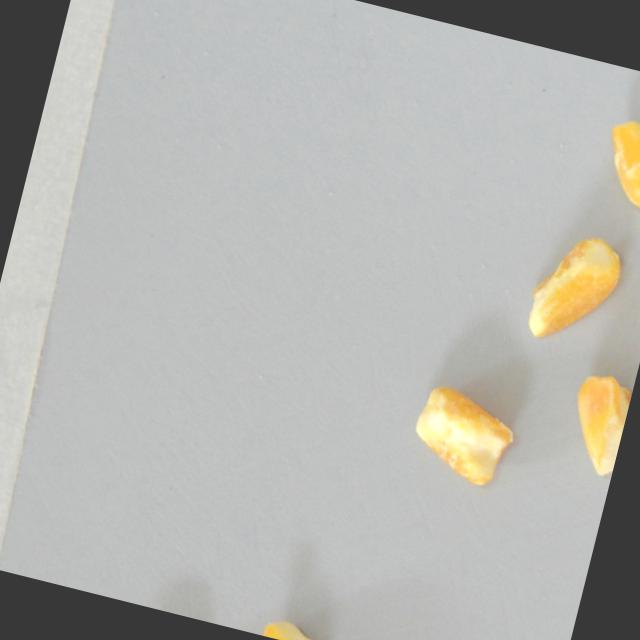pelicula: (521, 225, 627, 351), (403, 379, 522, 489), (558, 366, 635, 477), (589, 112, 640, 211), (261, 614, 337, 640)
